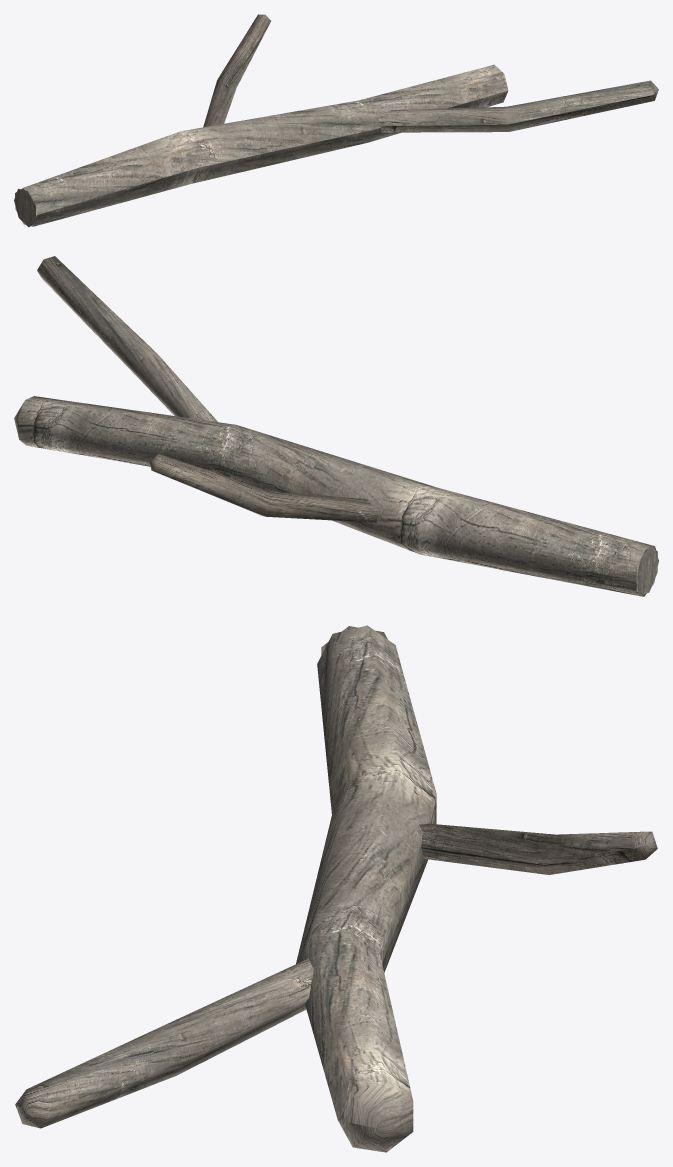
File: sc_drift_branch.glb
3 renders of one model, top to bottom at view 1: azimuth 30°, elevation 25°; view 2: azimuth 150°, elevation 25°; view 3: azimuth 270°, elevation 25°, orthographic. The views are drawn at different scales.
Visible parts, largest first — view 1: sc_drift_branch; view 2: sc_drift_branch; view 3: sc_drift_branch.
Part boxes in pixels (box(x1,y1,x2,y2)): sc_drift_branch: box(14, 14, 658, 227); sc_drift_branch: box(14, 256, 658, 596); sc_drift_branch: box(15, 625, 657, 1152).
Bounding box in the file's own units: 1.33 × 0.1998 × 0.6728.
Materials: 1 (1 with a texture image).
